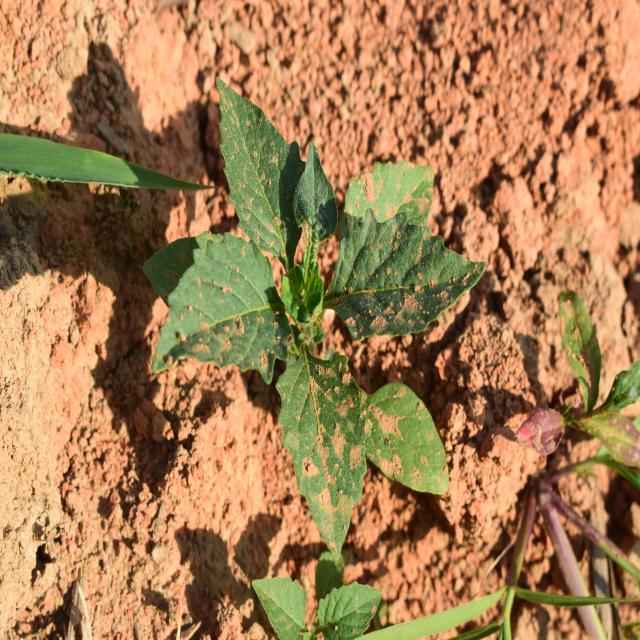Black_nightshade: (164, 97, 454, 524)
